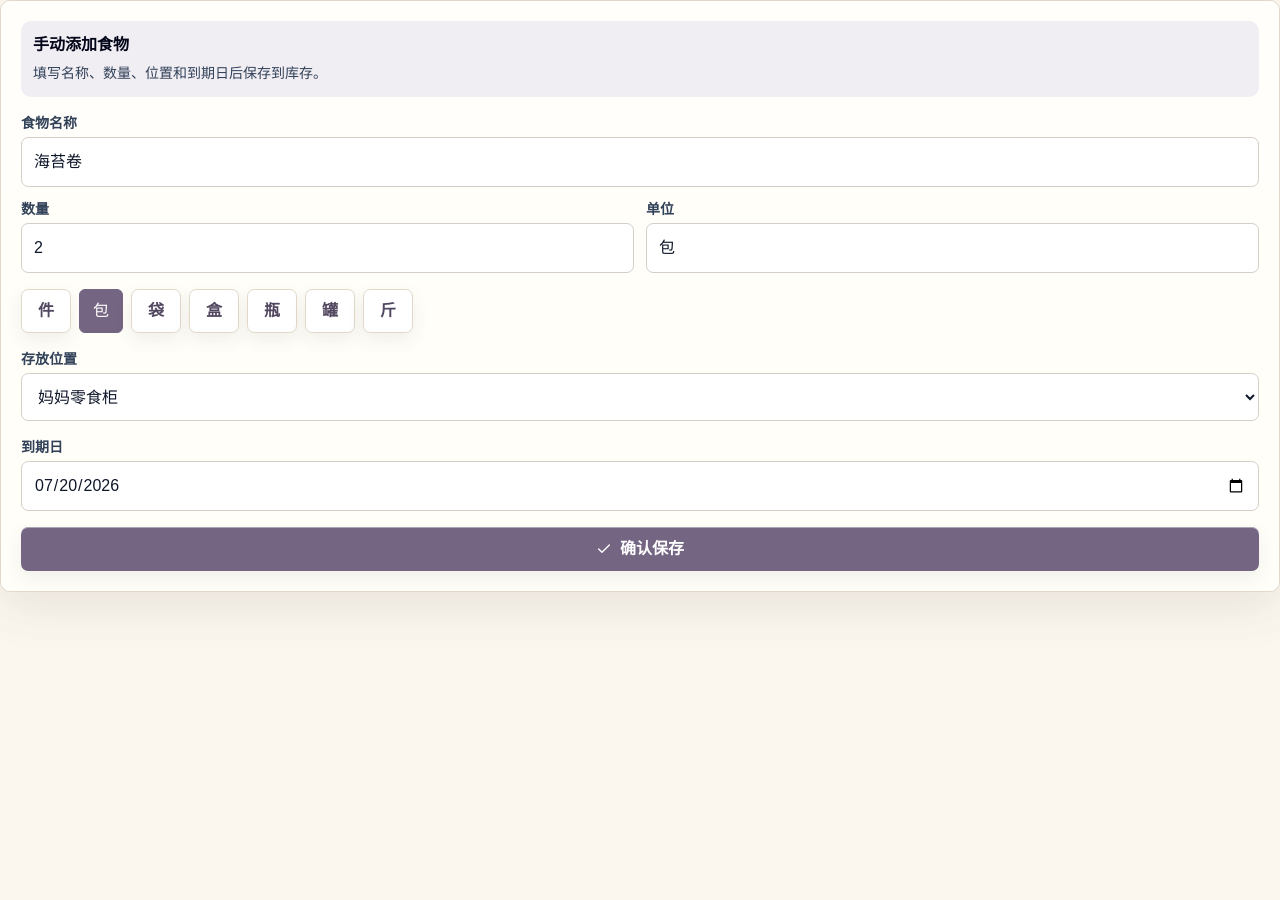
Test case: AddFoodConfirmForm › keeps the saved location while clearing fields for the next food
The image size is (1280, 900).
Click the button "确认保存" at (640, 549), box x1=21 y1=527 x2=1259 y2=571
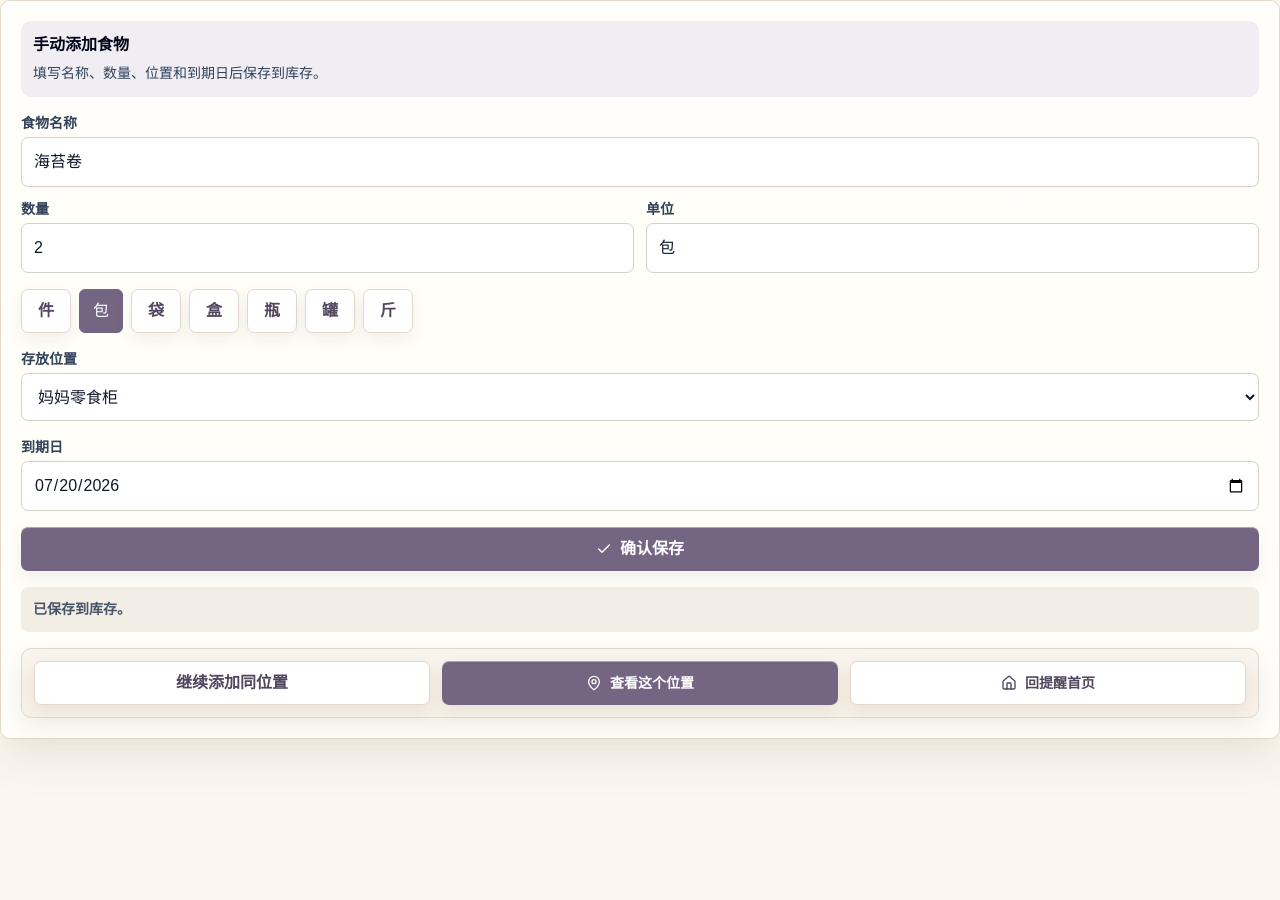
expect the text "已保存到库存。" is shown: met, box x1=21 y1=587 x2=1259 y2=632
Click the button "继续添加同位置" at (232, 683), box x1=34 y1=661 x2=430 y2=705
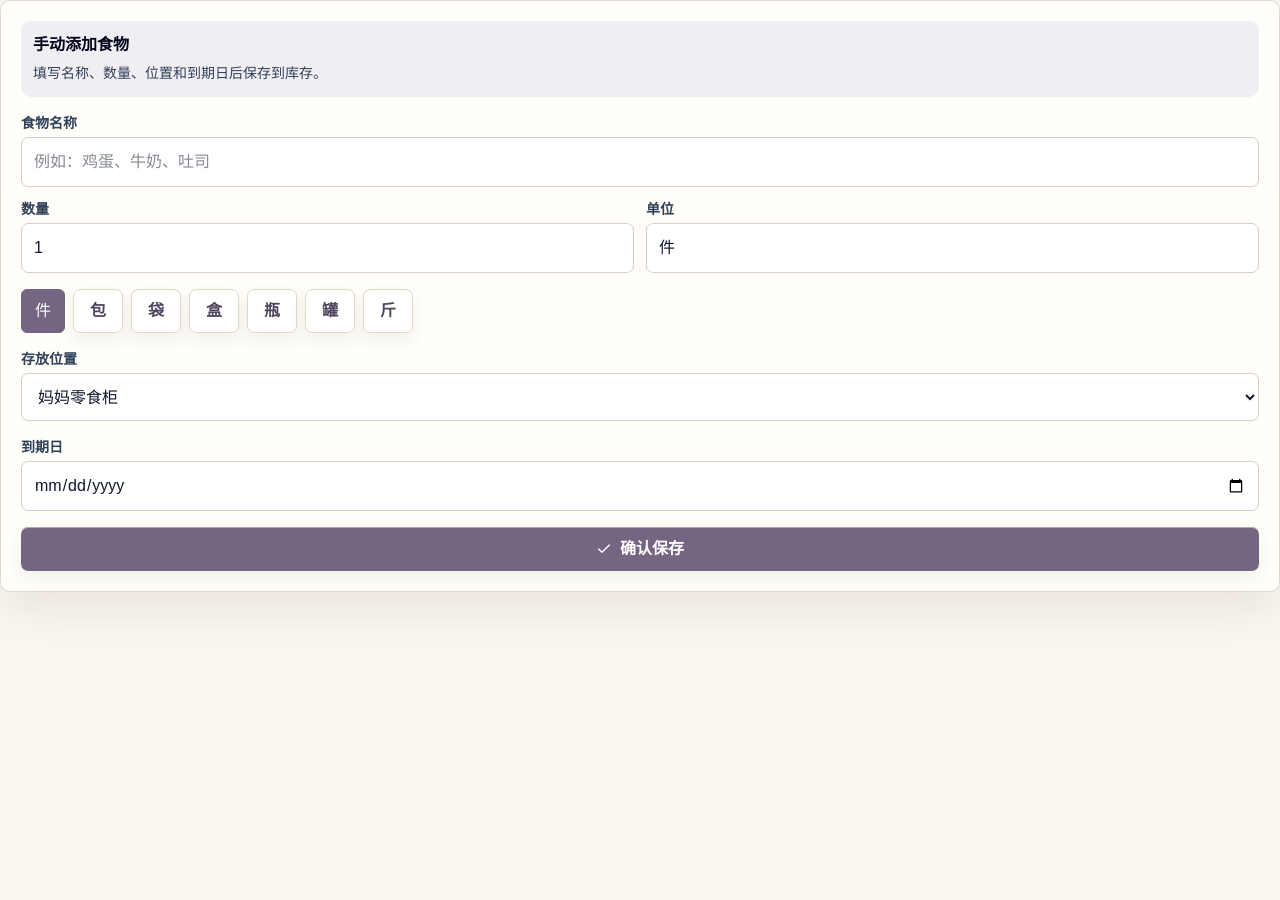
expect the dropdown labelled "存放位置" shows "妈妈零食柜": met, box x1=21 y1=373 x2=1259 y2=421
expect the date field labelled "到期日" is empty: met, box x1=21 y1=461 x2=1259 y2=511
expect the field showing "件" is shown: met, box x1=646 y1=223 x2=1259 y2=273
